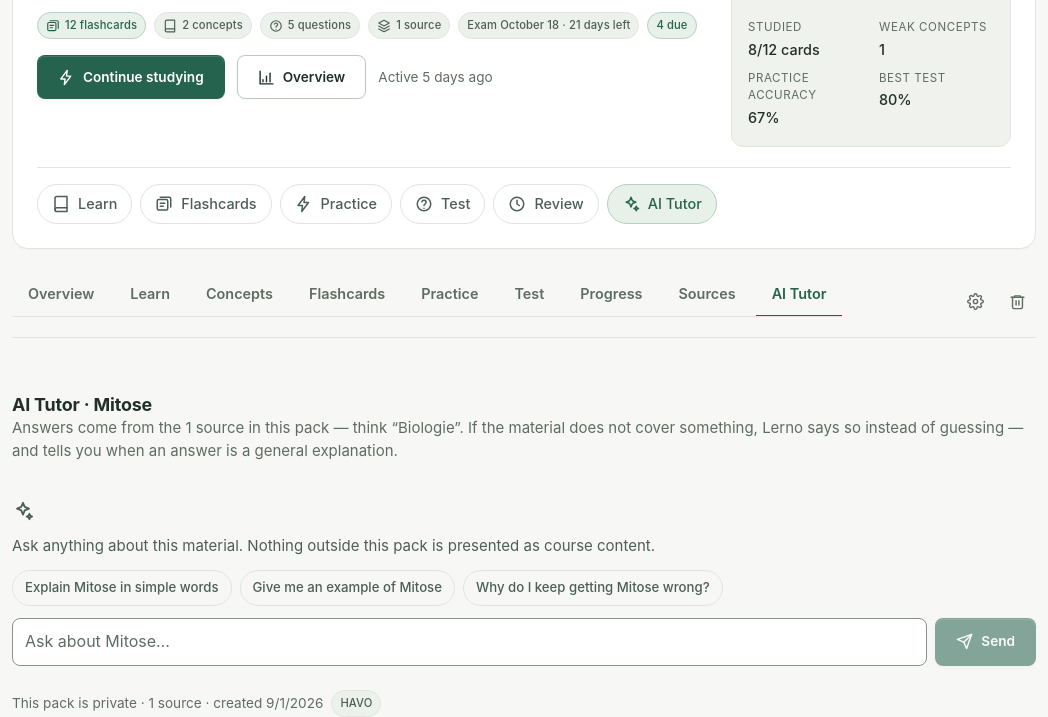
Test: StudyPackPage › study session tabs › opens the AI Tutor for a concept and sends the concept as context
(page scrolled)
Expected: the heading "AI Tutor · Mitose" is shown, [12,394,152,415]
Type "Wat is mitose?" into the field named "Ask the AI Tutor". click: {"x": 470, "y": 642}
box: [12,618,927,666]
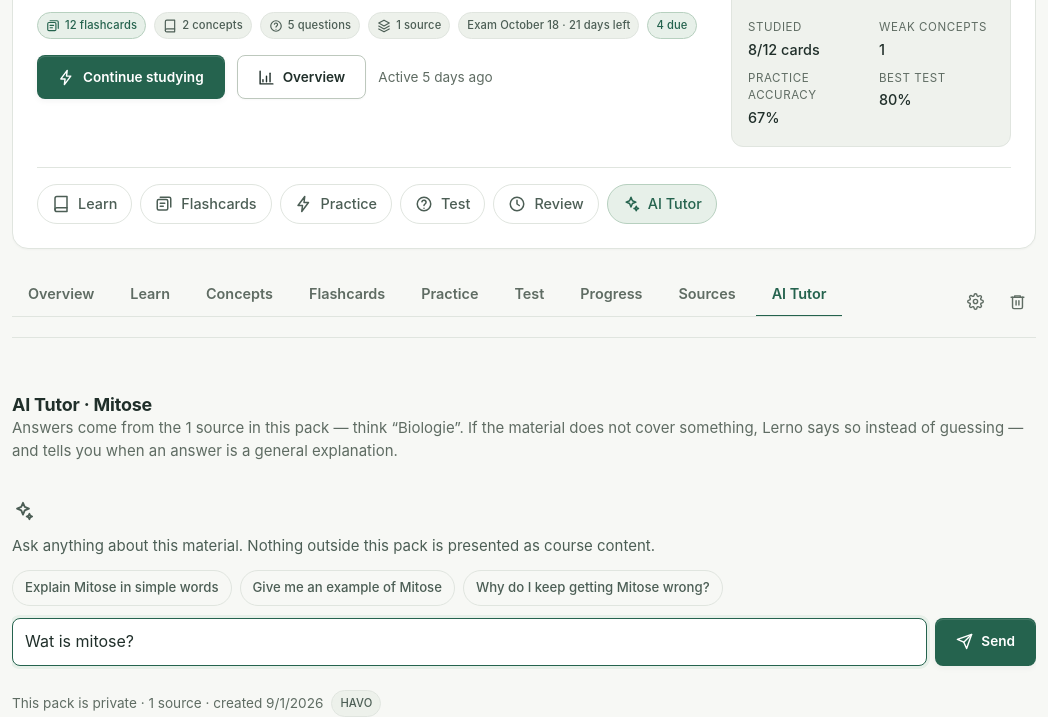
Click the button "Send". click: {"x": 986, "y": 642}
box: [935,618,1036,666]
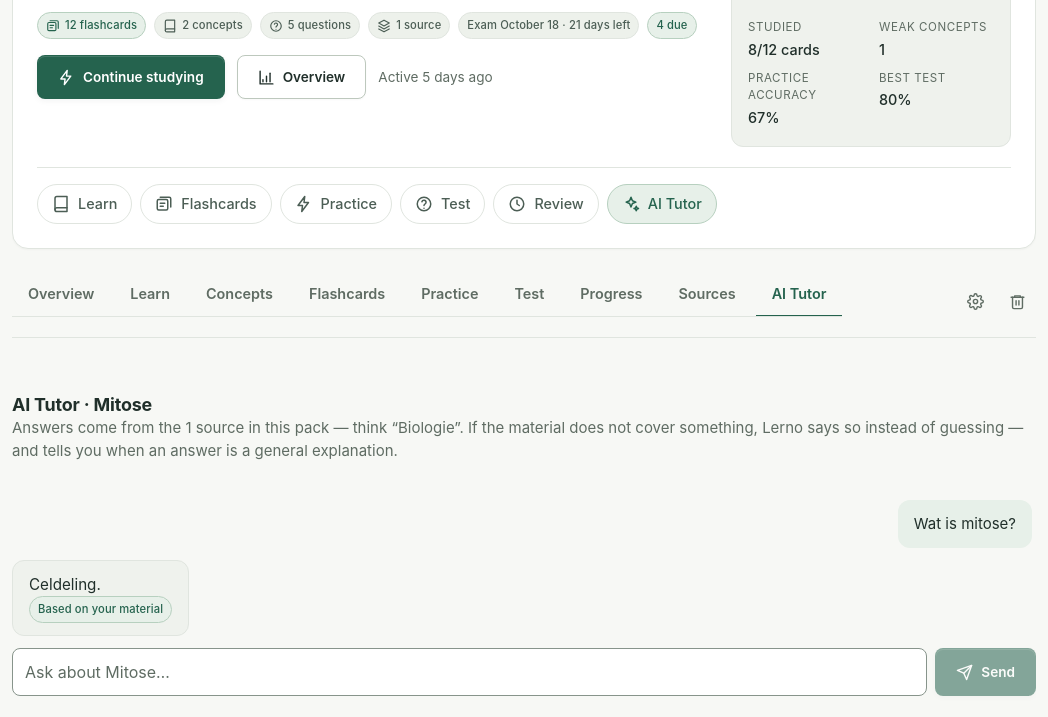
Now the text "Based on your material" is shown, box [29,596,172,624]
